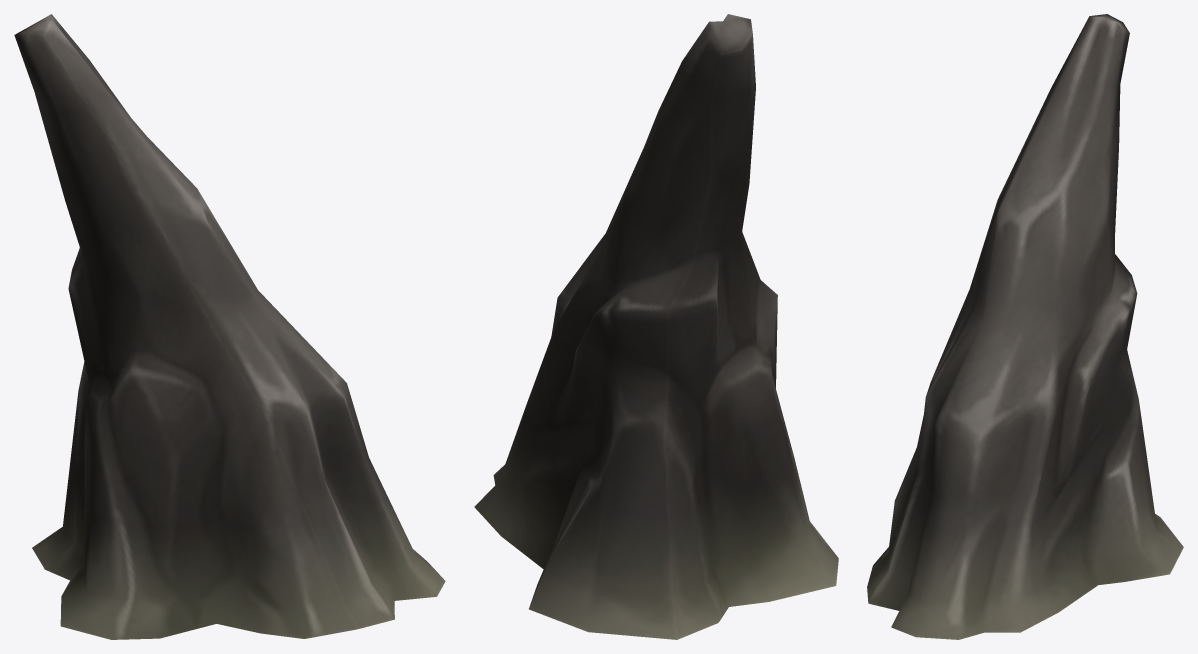
Rendered from Rocks_Large_01.FBX.
The picture shows the model from 3 angles, left to right: view 1: azimuth 30°, elevation 25°; view 2: azimuth 150°, elevation 25°; view 3: azimuth 270°, elevation 25°; orthographic projection. The views are drawn at different scales.
Parts seen in each view (by area): view 1: Rocks_Large_01; view 2: Rocks_Large_01; view 3: Rocks_Large_01.
Part boxes in pixels (x1=…): Rocks_Large_01: x1=14, y1=14, x2=445, y2=639; Rocks_Large_01: x1=474, y1=14, x2=838, y2=639; Rocks_Large_01: x1=867, y1=14, x2=1183, y2=639.
Size of the model in its own units: 1074 by 1669 by 970.
